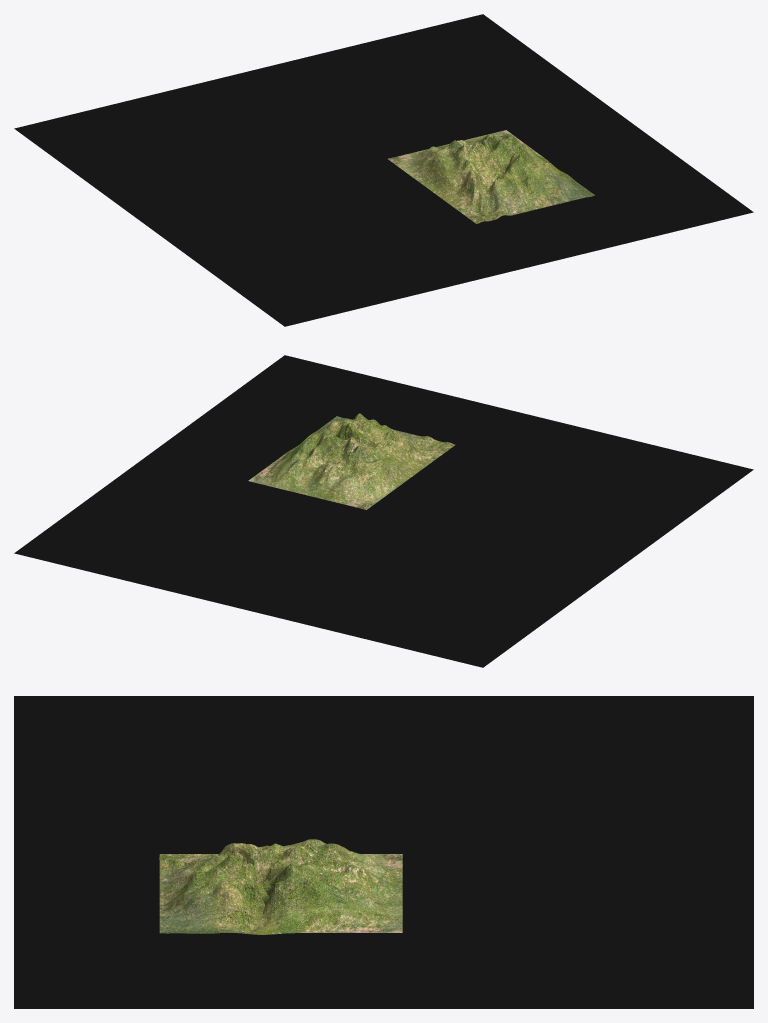
File: mount.blend1.obj
3 renders of one model, top to bottom at view 1: azimuth 30°, elevation 25°; view 2: azimuth 150°, elevation 25°; view 3: azimuth 270°, elevation 25°, orthographic. The views are drawn at different scales.
Bounding box in the file's own units: 25.51 × 1.93 × 25.51.
2 materials, 1 textured.
